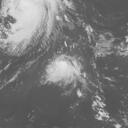cyclone: (45, 56, 82, 85)
